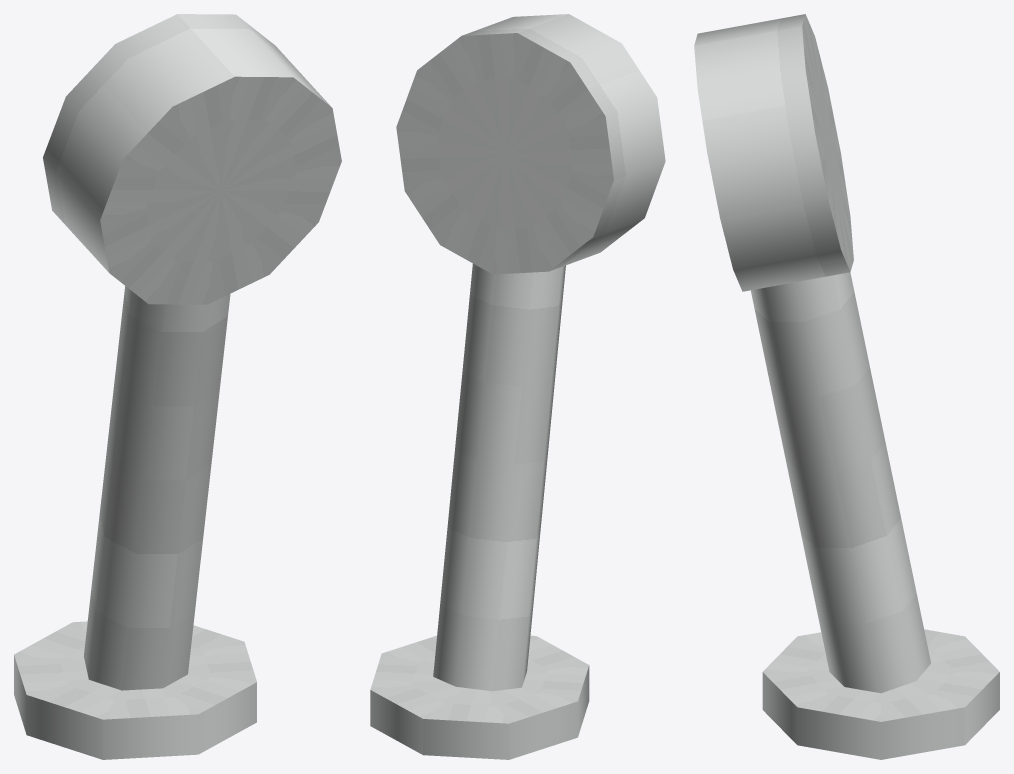
Rendered from nycsignalarm_stub_3.obj.
The picture shows the model from 3 angles, left to right: view 1: azimuth 30°, elevation 25°; view 2: azimuth 150°, elevation 25°; view 3: azimuth 270°, elevation 25°; orthographic projection. The views are drawn at different scales.
Visible parts, largest first — view 1: nycsignalarm_stub_3; view 2: nycsignalarm_stub_3; view 3: nycsignalarm_stub_3.
Part boxes in pixels (x1,y1,x2,y2): nycsignalarm_stub_3: (14,14,341,759); nycsignalarm_stub_3: (370,14,665,759); nycsignalarm_stub_3: (694,14,999,759).
Size of the model in its own units: 0.3884 by 1.11 by 0.451.
